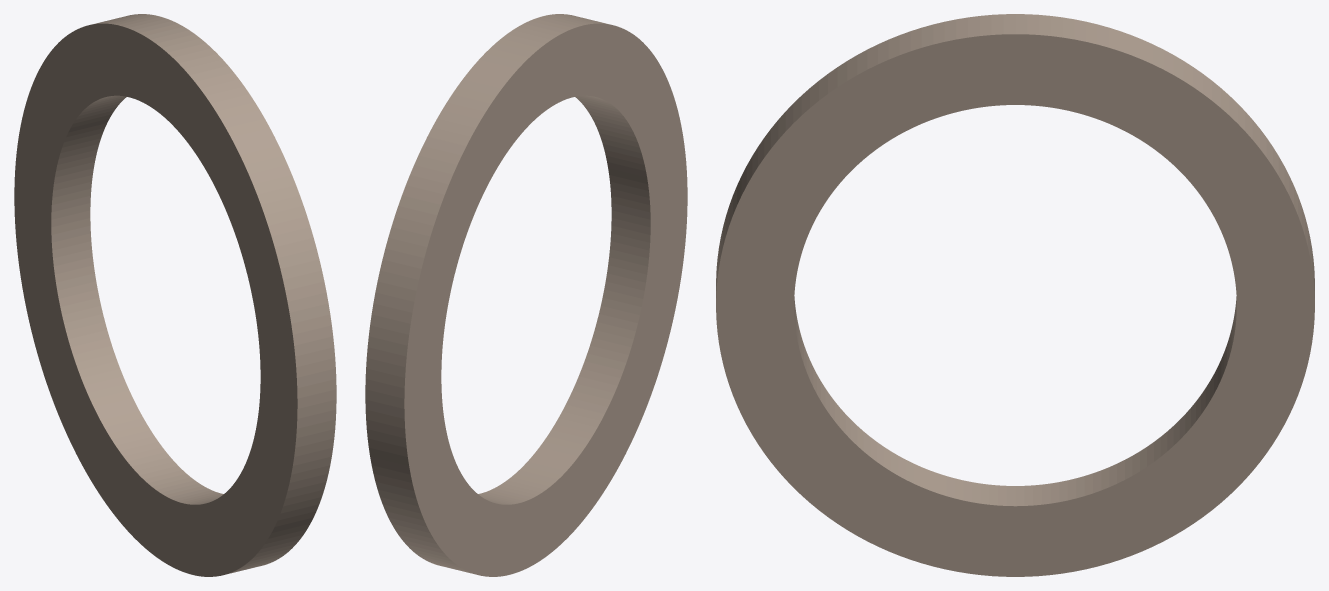
Rendered from p-hpt.glb.
3 views of the same model, side by side, from view 1: azimuth 30°, elevation 25°; view 2: azimuth 150°, elevation 25°; view 3: azimuth 270°, elevation 25° (orthographic). The views are drawn at different scales.
Parts seen in each view (by area): view 1: hp_turbine; view 2: hp_turbine; view 3: hp_turbine.
Part boxes in pixels (x1,y1,x2,y2): hp_turbine: (14, 14, 336, 576); hp_turbine: (365, 14, 687, 576); hp_turbine: (716, 14, 1314, 576).
Bounding box in the file's own units: 0.055 × 0.69 × 0.6899.
